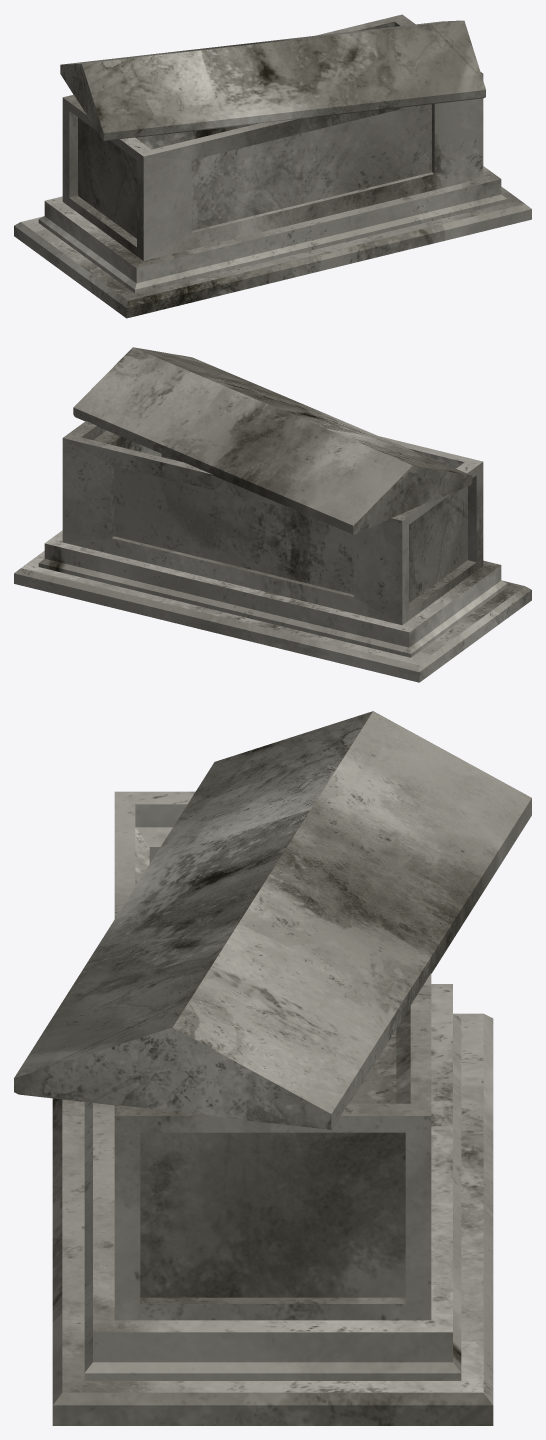
File: Sarcophagus.fbx
The picture shows the model from 3 angles, top to bottom: view 1: azimuth 30°, elevation 25°; view 2: azimuth 150°, elevation 25°; view 3: azimuth 270°, elevation 25°; orthographic projection. The views are drawn at different scales.
Parts seen in each view (by area): view 1: Body, Lid; view 2: Body, Lid; view 3: Body, Lid.
Part boxes in pixels (box(x1,y1,x2,y2)): Body: box(14, 14, 531, 318); Lid: box(60, 20, 485, 141); Body: box(14, 421, 531, 682); Lid: box(73, 347, 472, 534); Body: box(52, 791, 493, 1425); Lid: box(14, 711, 531, 1129).
Bounding box in the file's own units: 7.87 × 3.44 × 4.45.
